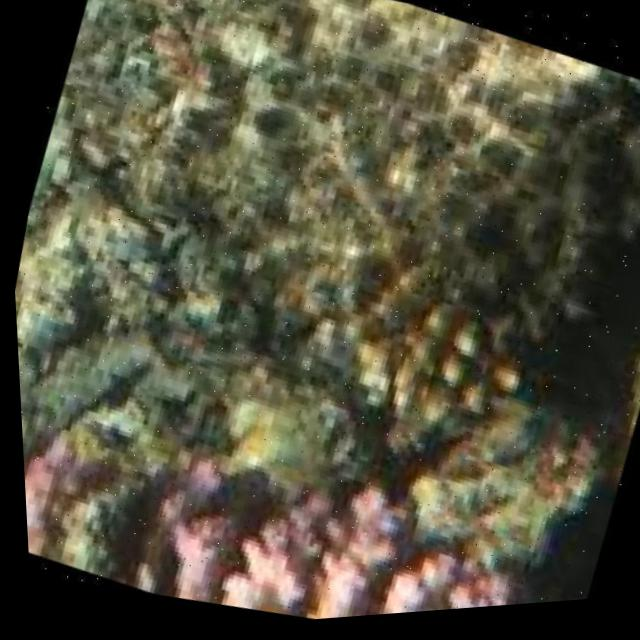Healthy Coral: (16, 366, 602, 640)
